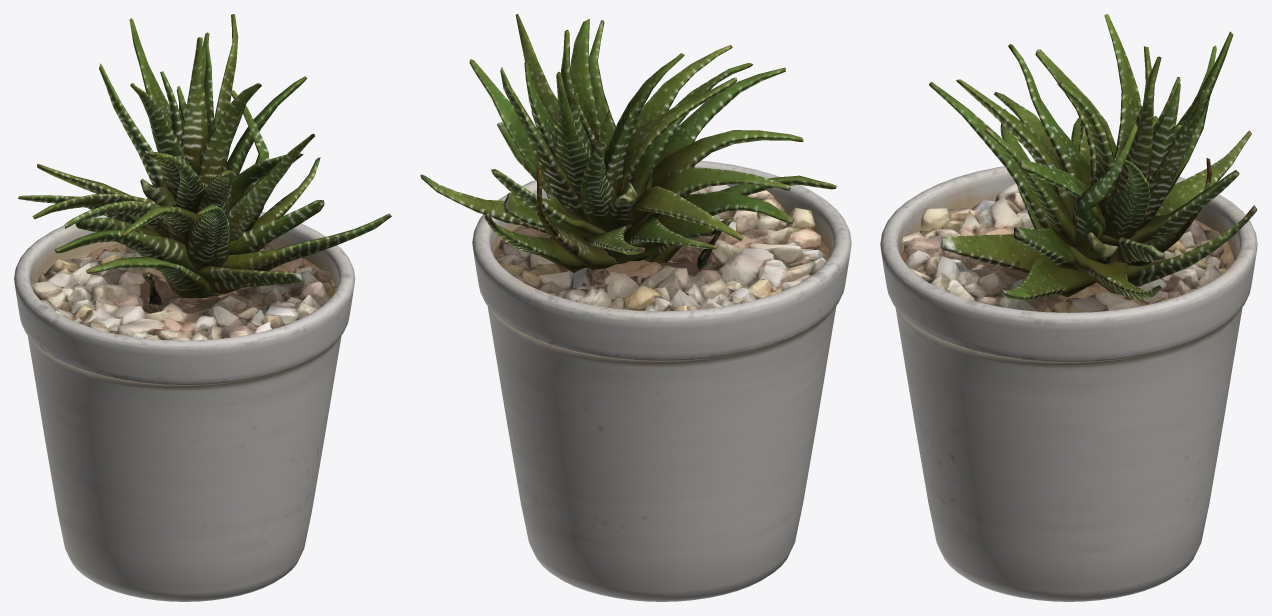
File: plant.glb
The picture shows the model from 3 angles, left to right: view 1: azimuth 30°, elevation 25°; view 2: azimuth 150°, elevation 25°; view 3: azimuth 270°, elevation 25°; orthographic projection. The views are drawn at different scales.
Parts seen in each view (by area): view 1: potted_plant_04_dirt; view 2: potted_plant_04_dirt; view 3: potted_plant_04_dirt.
Part boxes in pixels (<box>): potted_plant_04_dirt: <box>14,14,391,601</box>; potted_plant_04_dirt: <box>420,14,851,601</box>; potted_plant_04_dirt: <box>880,14,1257,601</box>.
Bounding box in the file's own units: 0.5 × 0.7238 × 0.4544.
Materials: 1 (1 with a texture image).
